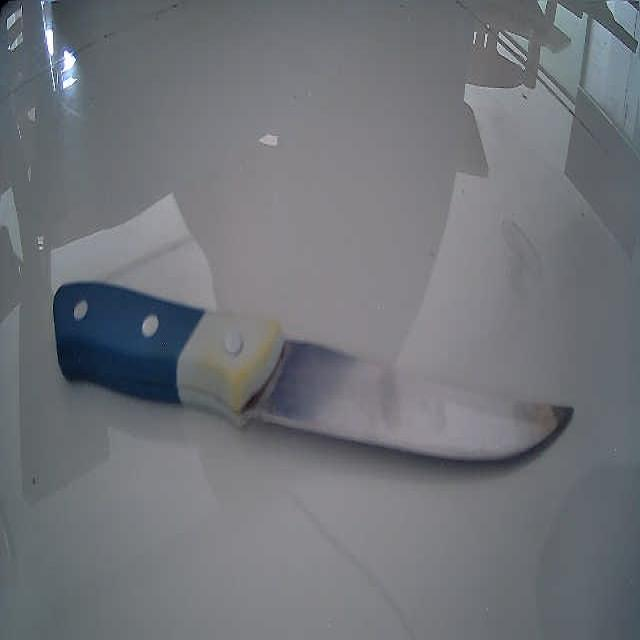knife: (52, 281, 575, 464)
